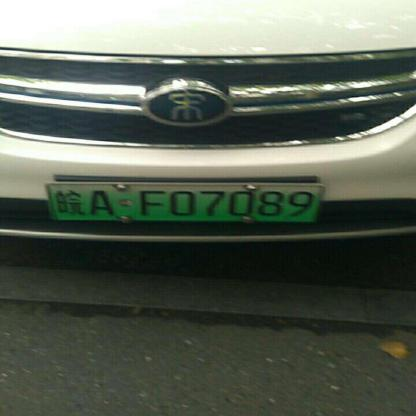lp: (55, 185, 314, 222)
